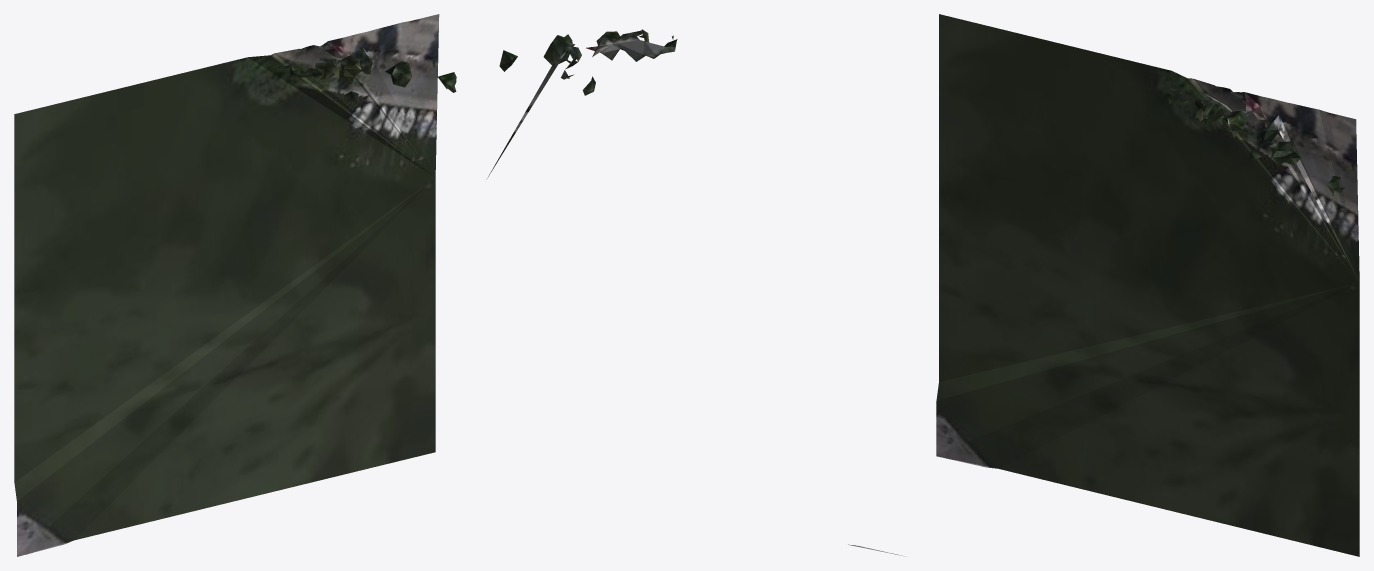
File: Tile_+034_+024_L17_0001.glb
3 renders of one model, left to right at view 1: azimuth 30°, elevation 25°; view 2: azimuth 150°, elevation 25°; view 3: azimuth 330°, elevation 25°, orthographic.
Bounding box in the file's own units: 126 × 126 × 16.42.
1 material, 1 textured.
